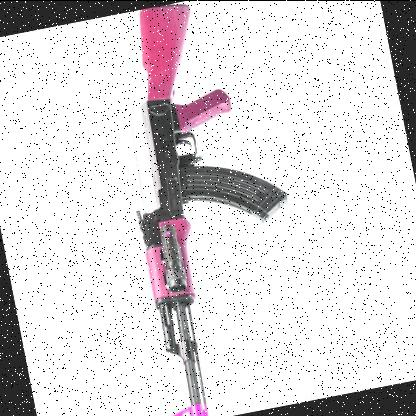rifle: (76, 0, 317, 416)
